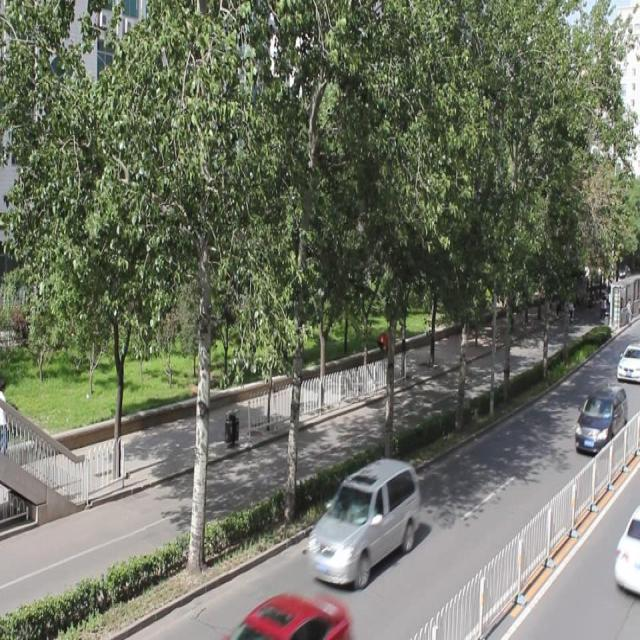car: (307, 456, 417, 585), (573, 381, 626, 451)
